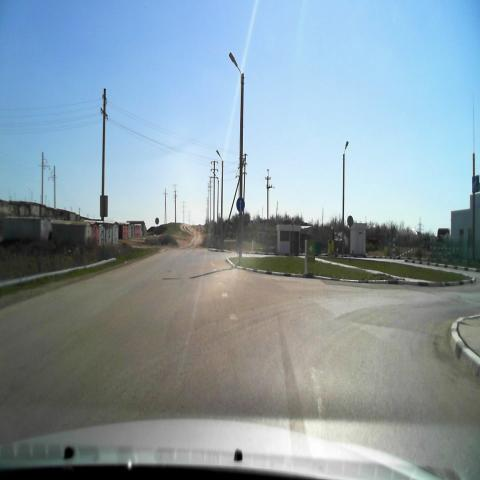4_1_1: (236, 197, 246, 212)
